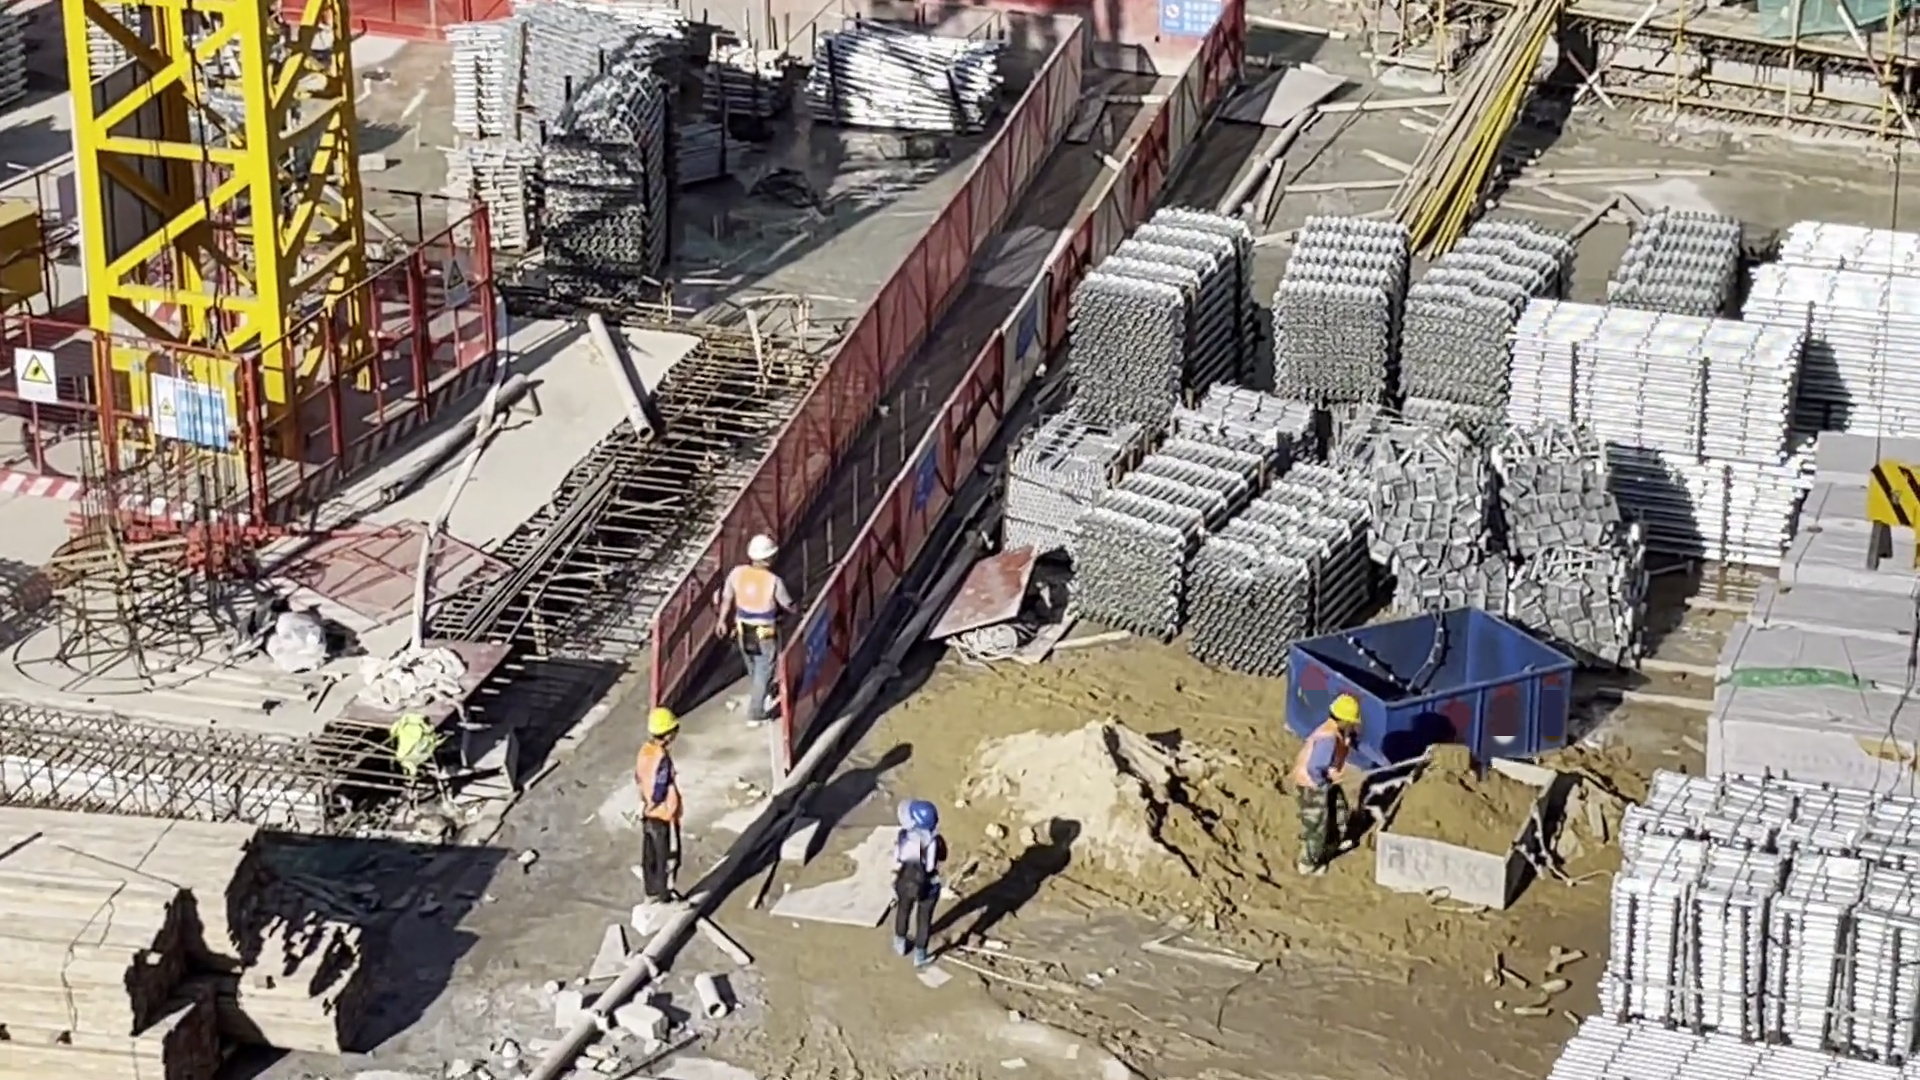fence: (643, 1, 1233, 774)
helmet: (1318, 684, 1376, 732), (640, 696, 686, 749), (738, 536, 785, 570), (901, 799, 937, 827)
hopper: (1290, 604, 1600, 756), (1380, 741, 1567, 910)
person: (715, 530, 787, 725), (1282, 684, 1363, 854), (628, 706, 690, 915), (893, 803, 941, 964)
scaffold: (1501, 204, 1920, 557), (1555, 761, 1920, 1080), (1082, 420, 1391, 686), (423, 11, 669, 290), (1073, 203, 1241, 424), (754, 19, 1022, 146), (1395, 222, 1569, 407), (1270, 215, 1405, 414)
vest: (624, 746, 687, 825), (1300, 725, 1348, 797), (727, 565, 777, 624)
wood: (4, 785, 378, 1080)
